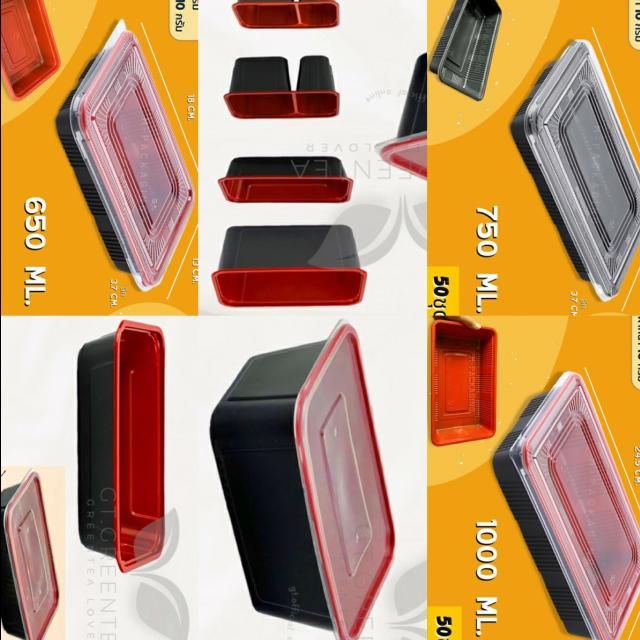plastik: (210, 321, 393, 640), (491, 372, 640, 640), (56, 25, 194, 290), (510, 39, 640, 301), (78, 320, 164, 573), (211, 225, 365, 307), (0, 469, 58, 640), (430, 321, 495, 445), (223, 55, 339, 119), (429, 0, 501, 101), (0, 0, 60, 101), (231, 0, 339, 29), (226, 156, 345, 176)
